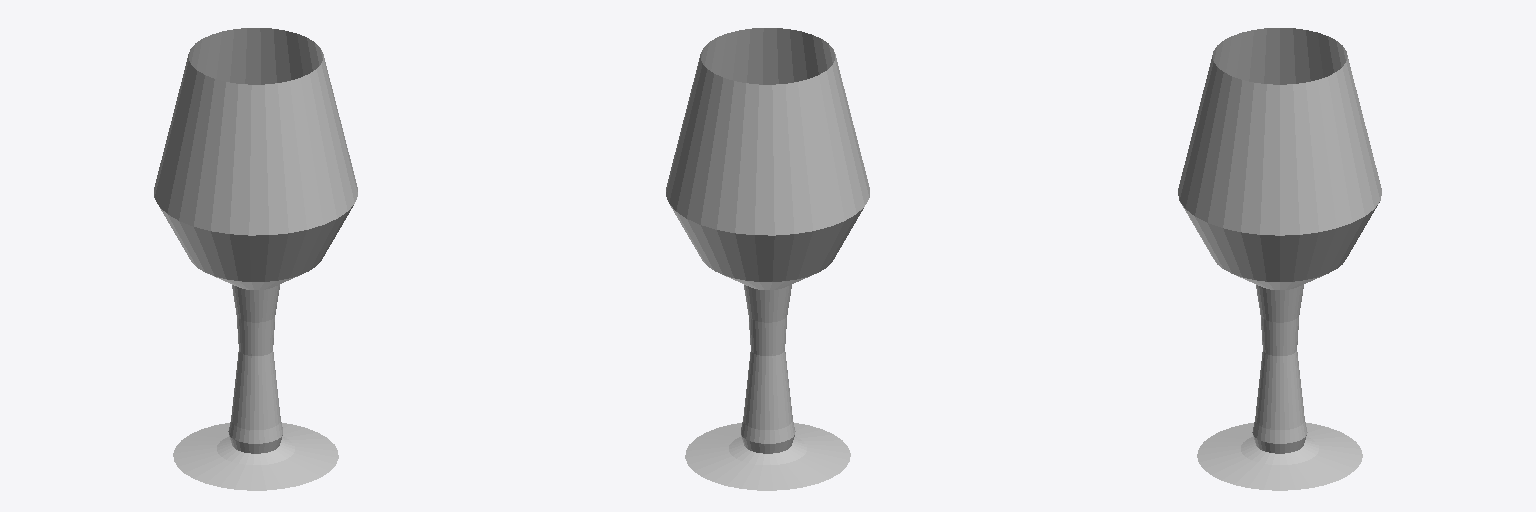
Rendered from verre.obj.
3 views of the same model, side by side, from view 1: azimuth 30°, elevation 25°; view 2: azimuth 150°, elevation 25°; view 3: azimuth 270°, elevation 25° (orthographic).
Visible parts, largest first — view 1: Cylinder; view 2: Cylinder; view 3: Cylinder.
Part boxes in pixels (x1,y1,x2,y2): Cylinder: (154, 28, 357, 490); Cylinder: (666, 28, 869, 490); Cylinder: (1178, 28, 1381, 490).
Size of the model in its own units: 3.03 by 6.52 by 3.03.